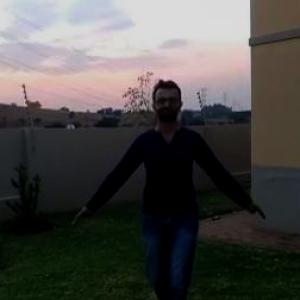land: (108, 102, 232, 299)
